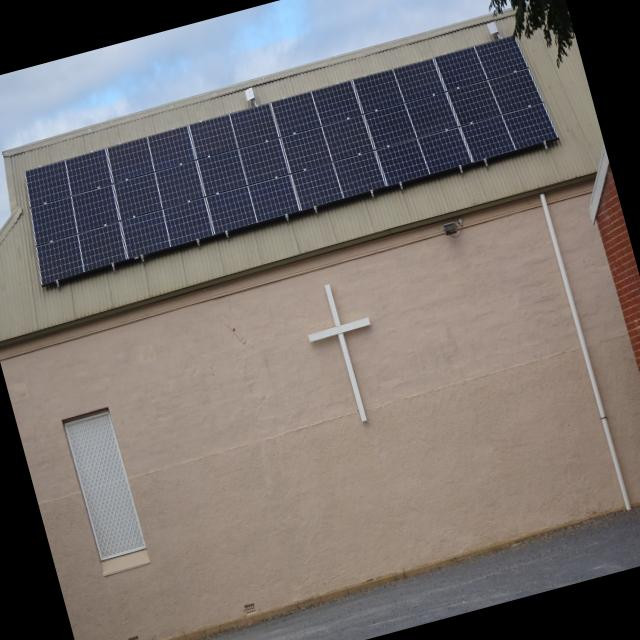no faulty: (24, 35, 556, 278)
